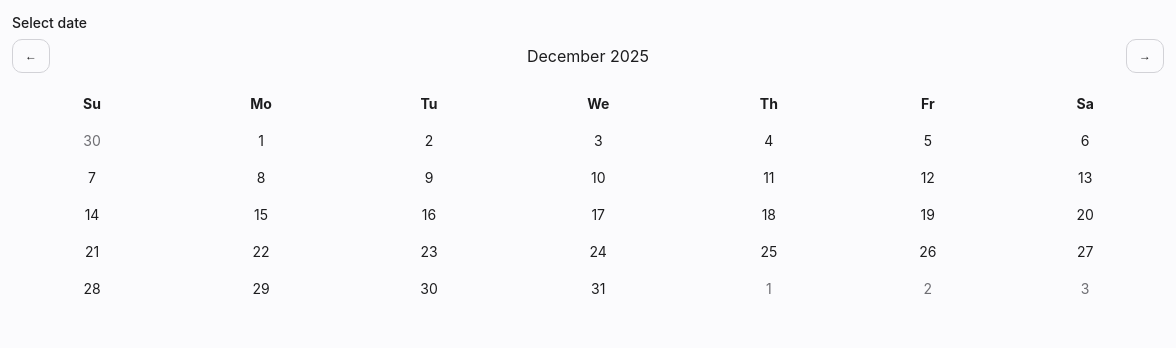
Scenario: DatePicker Integration Tests › navigates to previous month
The width and height of the screenshot is (1176, 348).
Click the button named "Prev".
click(31, 56)  # box [12,39,50,73]
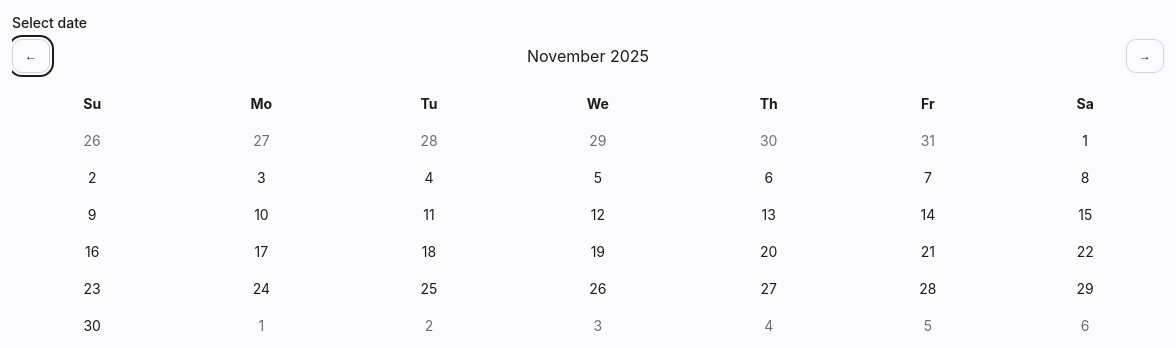
expect the text "November 2025" is shown: met, box [527,44,649,68]
